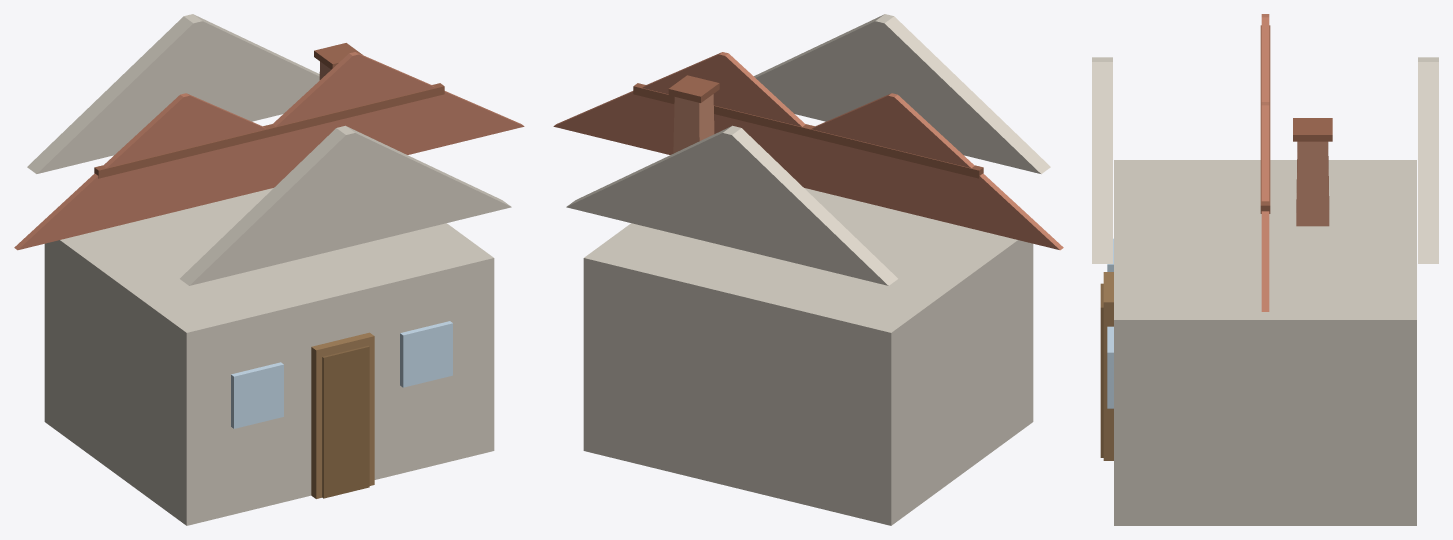
Rendered from small_house.fbx.
3 renders of one model, left to right at view 1: azimuth 30°, elevation 25°; view 2: azimuth 150°, elevation 25°; view 3: azimuth 270°, elevation 25°, orthographic. The views are drawn at different scales.
Visible parts, largest first — view 1: small_house; view 2: small_house; view 3: small_house.
Part boxes in pixels (x1,y1,x2,y2): small_house: (14, 14, 524, 525); small_house: (553, 14, 1063, 525); small_house: (1092, 14, 1438, 525).
Bounding box in the file's own units: 6.6 × 4.5 × 3.66.
